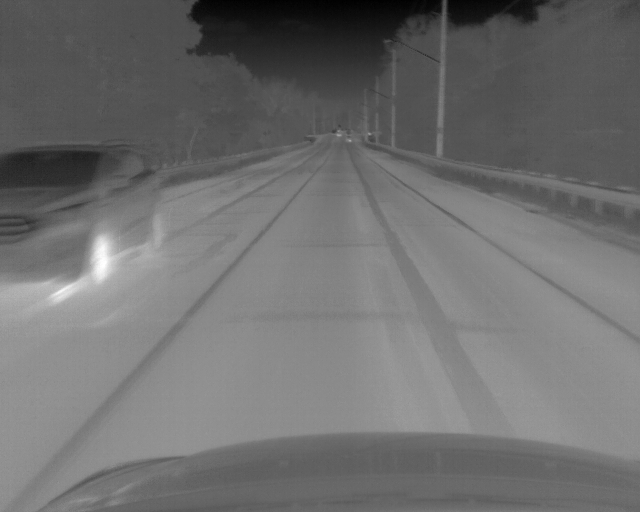car: (1, 140, 163, 284), (345, 132, 354, 144), (335, 128, 344, 138)
